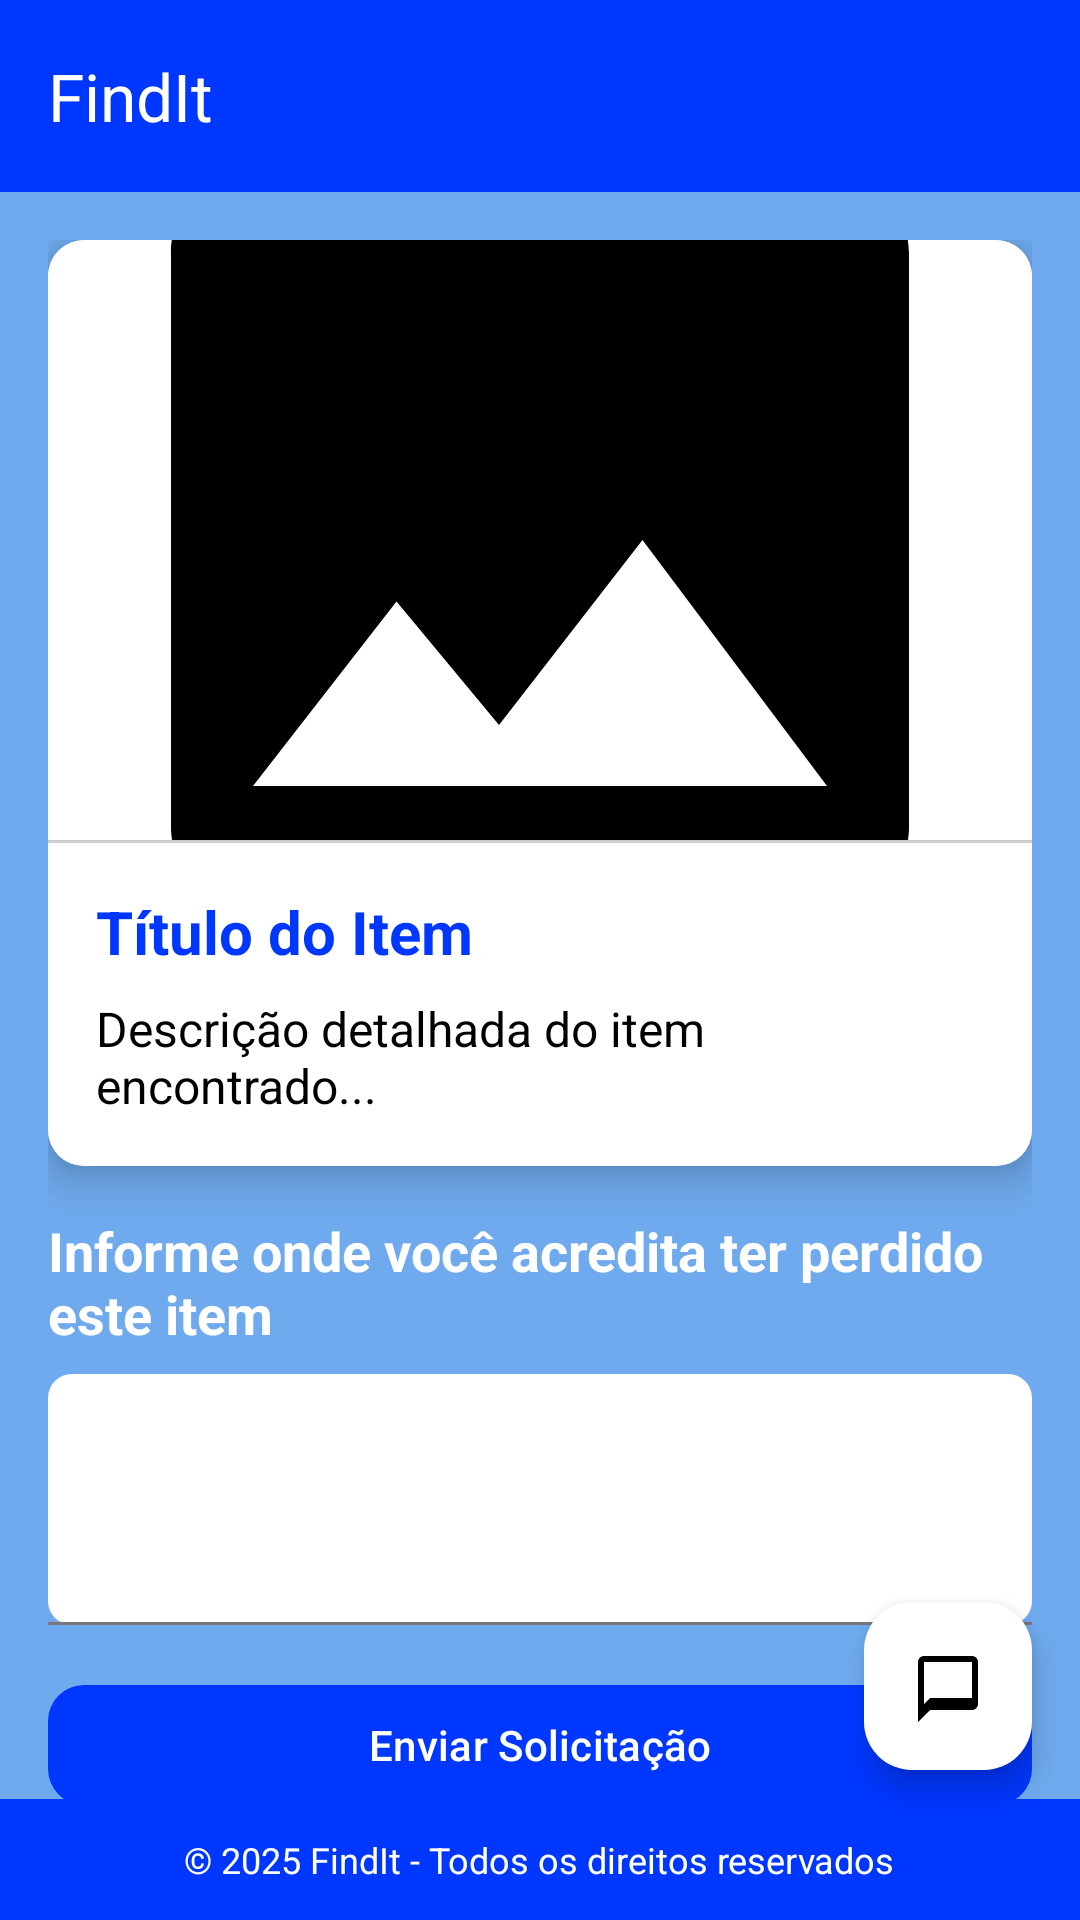

Named icons in this screenshot (1080*1920) and their centers, (x=x, y=y):
chat: (x=948, y=1686)
